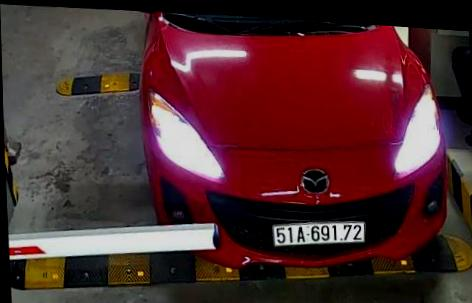License_Plate: (262, 204, 368, 260)
